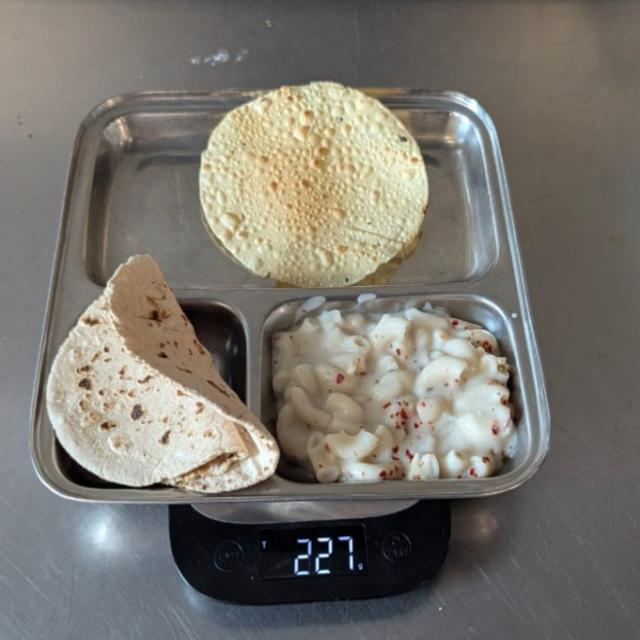Chapati: (40, 256, 278, 494)
Papad: (198, 79, 434, 295)
Pasta: (281, 301, 520, 488)
